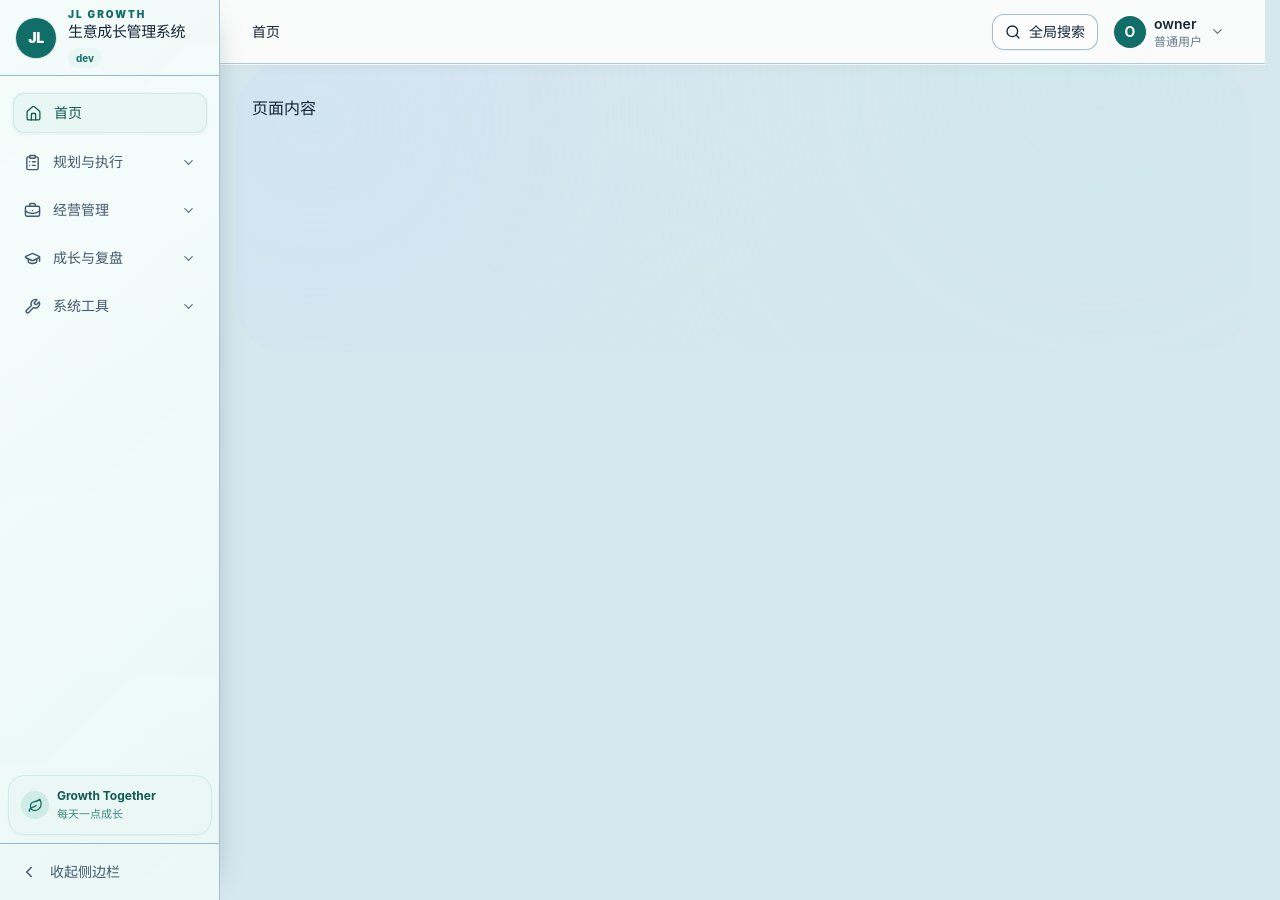
Scenario: AppShell navigation › marks administrator roles in the account switcher
Click the button with aria-label "账号菜单 owner" at (1170, 32), box [1106,12,1233,52]
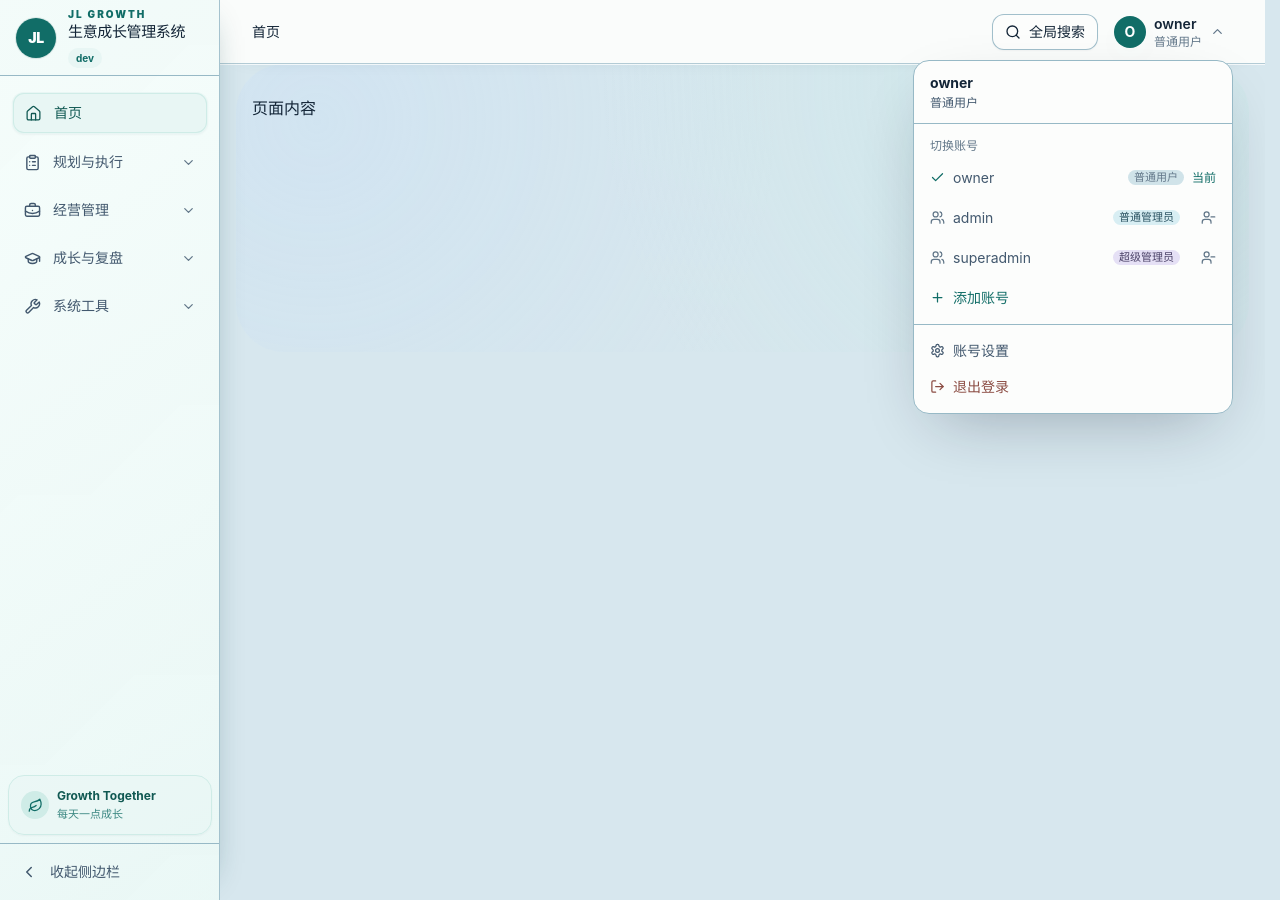
Expected: the text "普通管理员" is shown, [1113,210,1180,225]
Expected: the text "超级管理员" is shown, [1113,250,1180,265]
Expected: the menu item with aria-label "切换到admin（普通管理员）" is shown, [922,200,1188,236]
